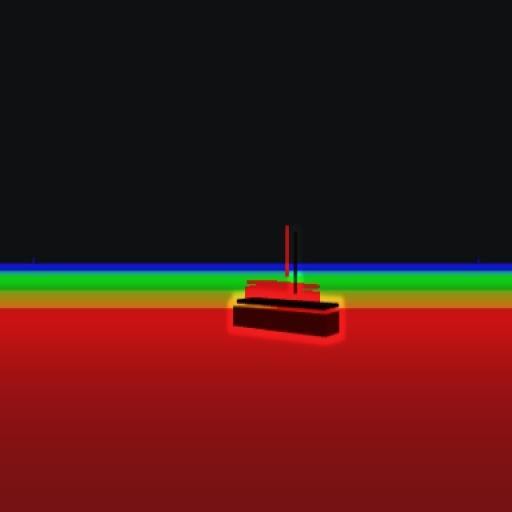vessel: (230, 224, 340, 342)
